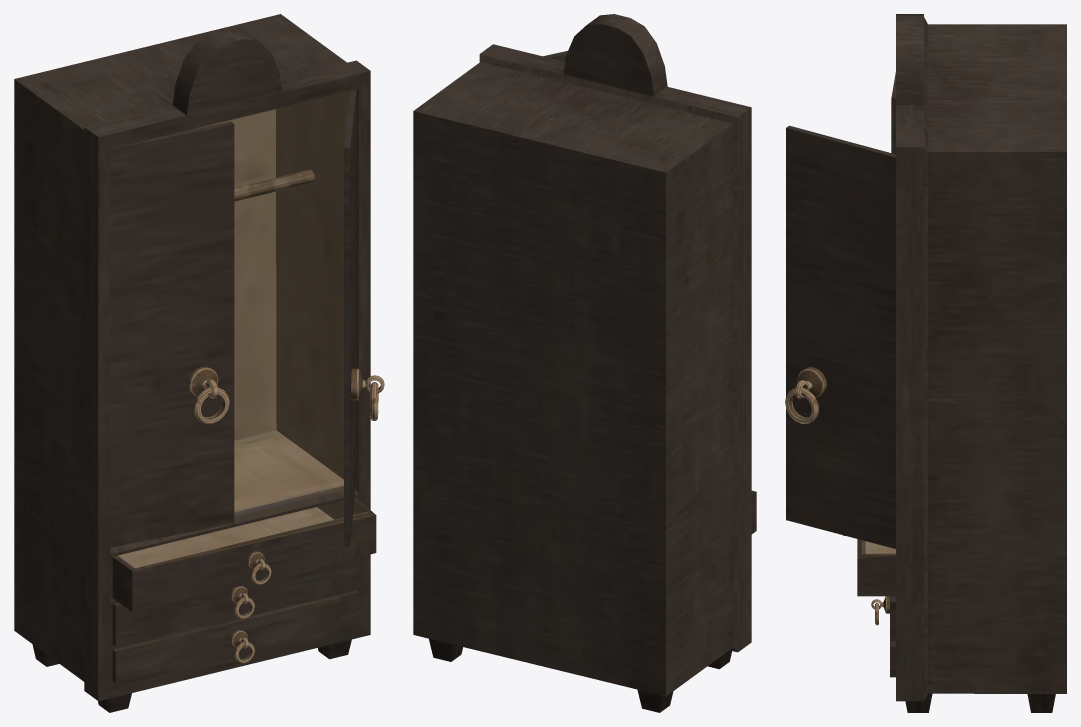
The model's file is s_armario_alto.glb.
The picture shows the model from 3 angles, left to right: view 1: azimuth 30°, elevation 25°; view 2: azimuth 150°, elevation 25°; view 3: azimuth 270°, elevation 25°; orthographic projection. The views are drawn at different scales.
Parts seen in each view (by area): view 1: Object_2; view 2: Object_2; view 3: Object_2.
Boxes of the visible parts, x1=… form: Object_2: x1=14, y1=14, x2=384, y2=712; Object_2: x1=413, y1=14, x2=756, y2=712; Object_2: x1=785, y1=14, x2=1066, y2=712.
Bounding box in the file's own units: 0.8806 × 2 × 0.8042.
1 material, 1 textured.
